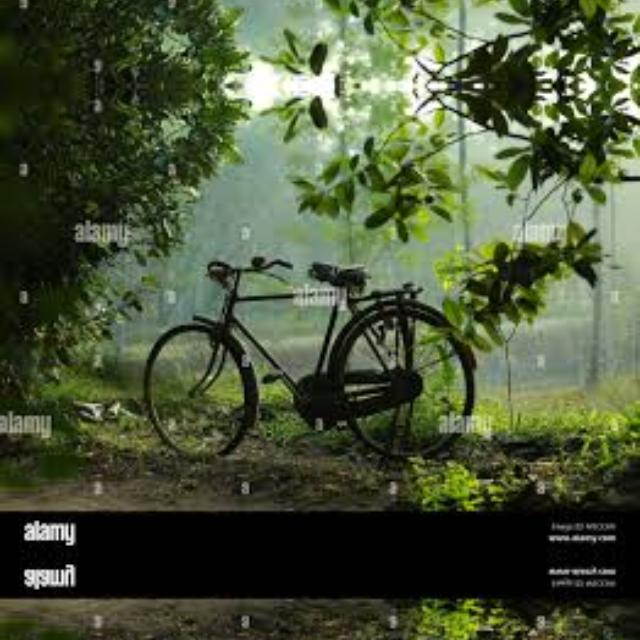obstacle: (138, 230, 544, 468)
